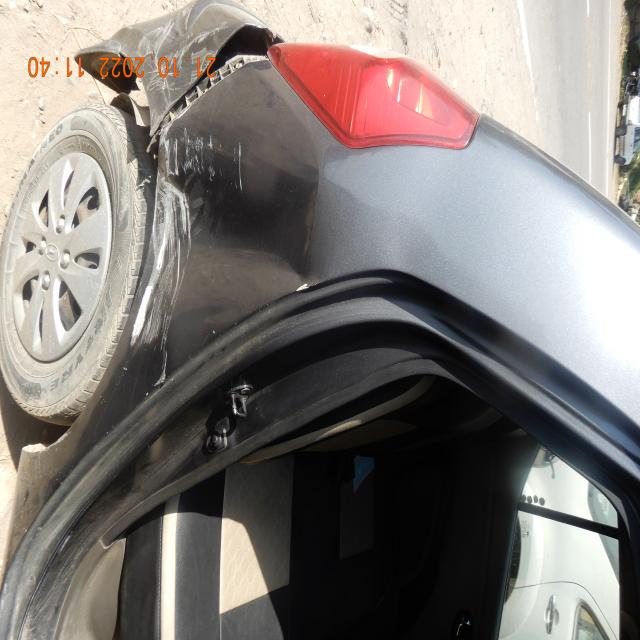damage: (130, 133, 245, 390), (71, 0, 266, 142), (296, 281, 319, 293)
